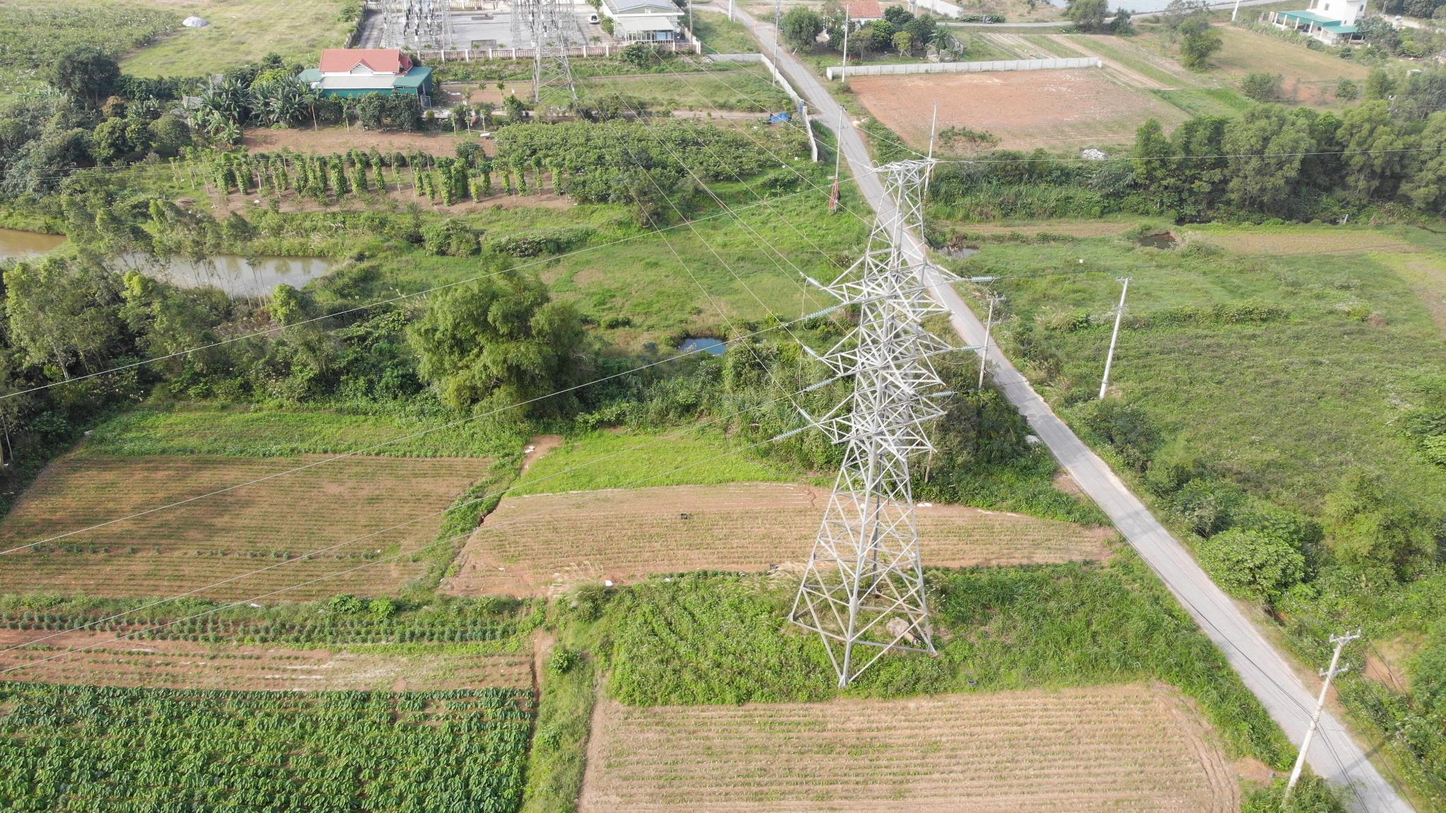tower: (776, 161, 960, 705)
